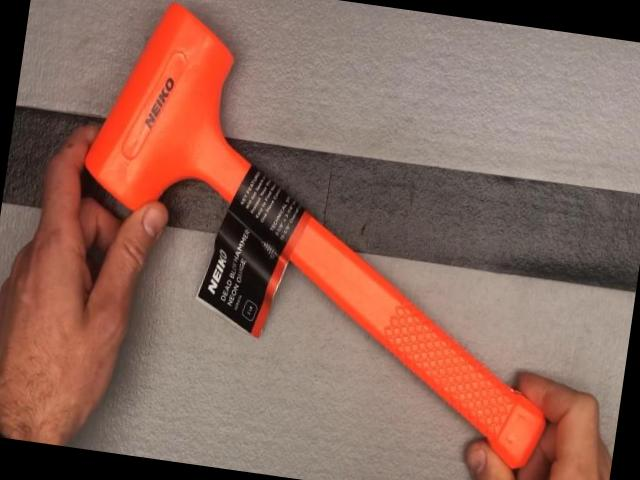hammer: (51, 0, 596, 470)
